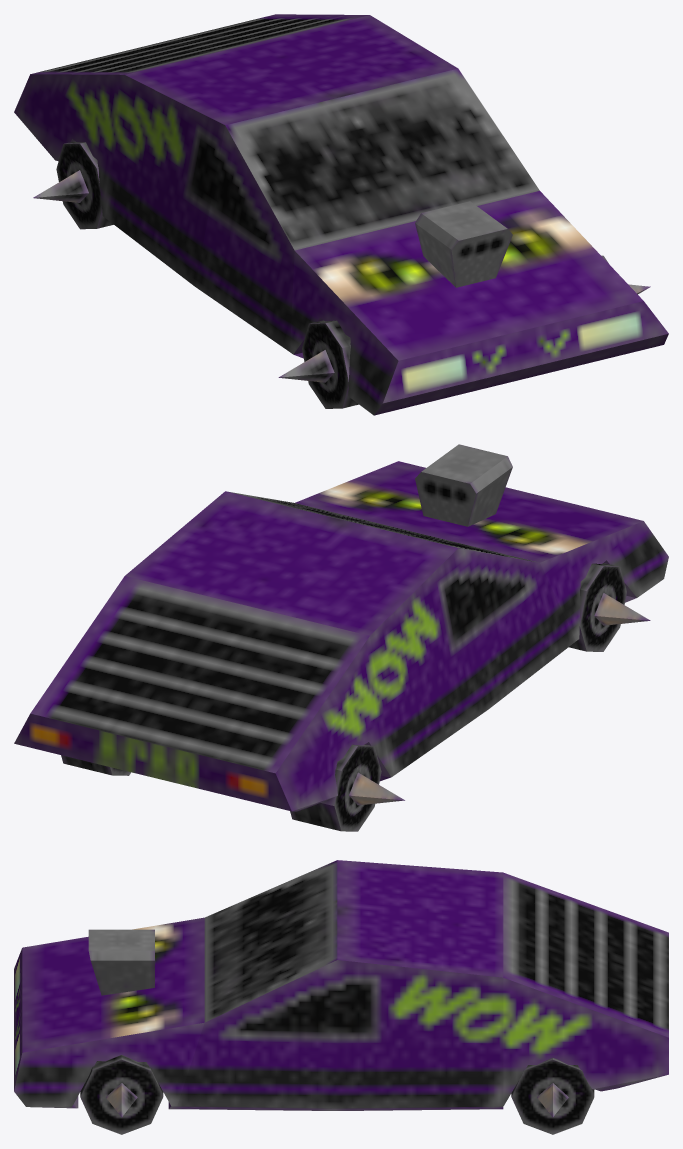
File: carpg_car2_wip.fbx
3 views of the same model, one above another, from view 1: azimuth 30°, elevation 25°; view 2: azimuth 150°, elevation 25°; view 3: azimuth 270°, elevation 25° (orthographic). The views are drawn at different scales.
Visible parts, largest first — view 1: chassis1.001, chassis1.006, chassis1.009, chassis1.011, chassis1.007, chassis1.010; view 2: chassis1.001, chassis1.006, chassis1.011, chassis1.009, chassis1.007, chassis1.010; view 3: chassis1.001, chassis1.002, chassis1.003, chassis1.006, chassis1.004, chassis1.005.
Boxes of the visible parts, box(x1,y1,x2,y2) form: chassis1.001: box(14, 14, 668, 415); chassis1.006: box(415, 201, 512, 287); chassis1.009: box(302, 320, 358, 408); chassis1.011: box(56, 141, 113, 229); chassis1.007: box(278, 350, 334, 382); chassis1.010: box(33, 170, 88, 202); chassis1.001: box(14, 461, 668, 811); chassis1.006: box(415, 444, 512, 526); chassis1.011: box(290, 744, 381, 831); chassis1.009: box(569, 563, 626, 651); chassis1.007: box(594, 593, 650, 625); chassis1.010: box(349, 772, 404, 805); chassis1.001: box(14, 860, 668, 1110); chassis1.002: box(80, 1055, 163, 1134); chassis1.003: box(511, 1058, 594, 1134); chassis1.006: box(88, 929, 154, 995); chassis1.004: box(106, 1083, 137, 1117); chassis1.005: box(537, 1083, 568, 1117).
Bounding box in the file's own units: 228 × 110 × 395.
1 material, 1 textured.
